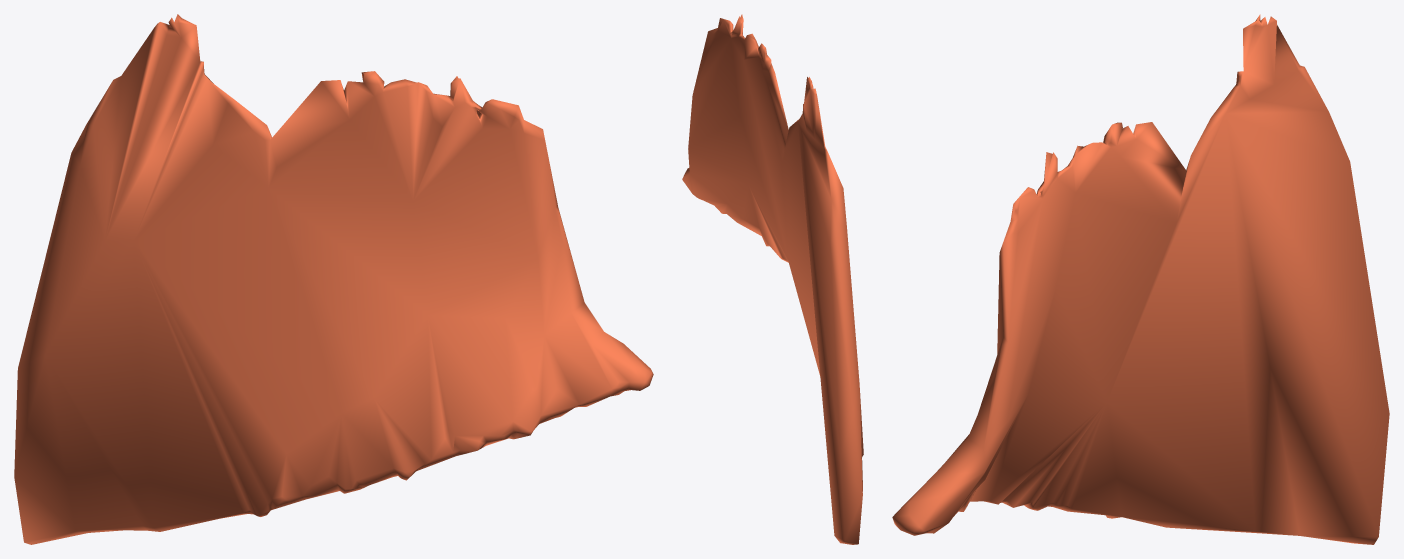
The model's file is Levator_anguli_oris.r_Generated_Mesh_From_X3D.394.glb.
The picture shows the model from 3 angles, left to right: view 1: azimuth 30°, elevation 25°; view 2: azimuth 150°, elevation 25°; view 3: azimuth 270°, elevation 25°; orthographic projection. The views are drawn at different scales.
Visible parts, largest first — view 1: Levator_anguli_oris.r_Generated_Mesh_From_X3D.394; view 2: Levator_anguli_oris.r_Generated_Mesh_From_X3D.394; view 3: Levator_anguli_oris.r_Generated_Mesh_From_X3D.394.
Boxes of the visible parts, x1=… form: Levator_anguli_oris.r_Generated_Mesh_From_X3D.394: x1=14, y1=14, x2=653, y2=544; Levator_anguli_oris.r_Generated_Mesh_From_X3D.394: x1=682, y1=14, x2=863, y2=544; Levator_anguli_oris.r_Generated_Mesh_From_X3D.394: x1=892, y1=14, x2=1389, y2=544.
Bounding box in the file's own units: 0.017 × 0.0202 × 0.0156.
